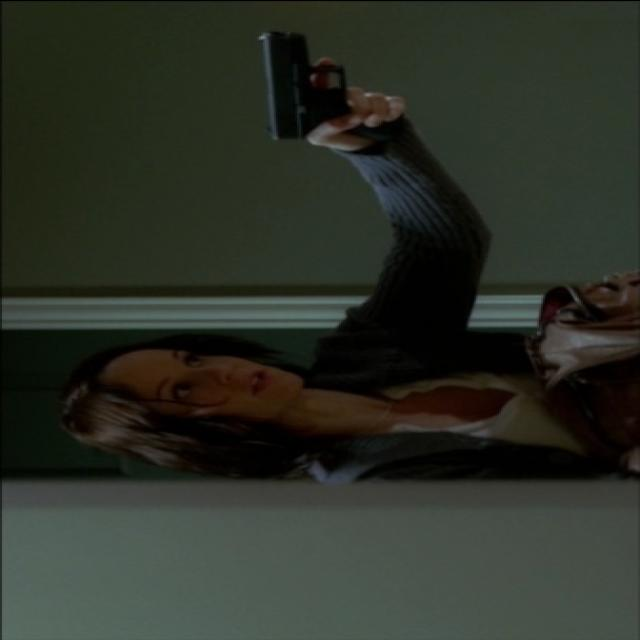weapons: (232, 13, 431, 160)
